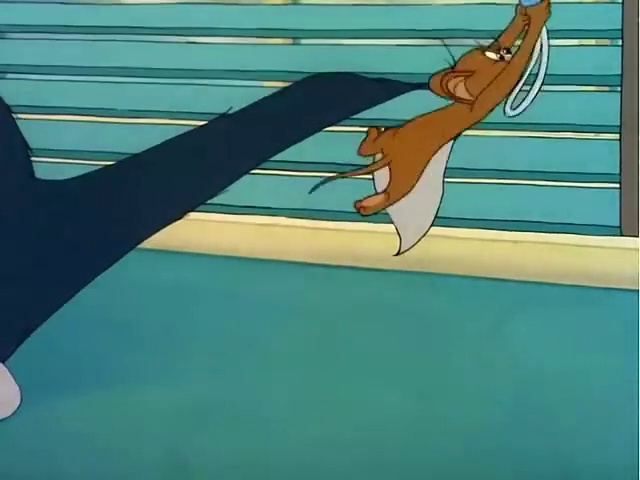jerry: (316, 16, 585, 242)
